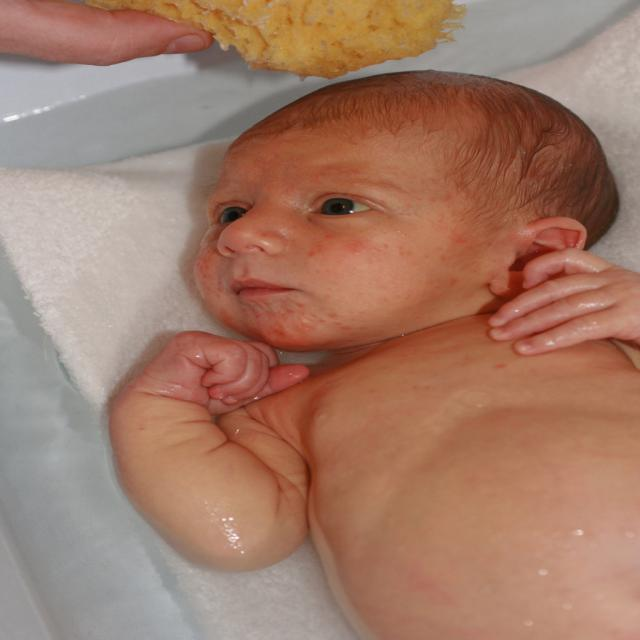closed-mouth: (231, 279, 298, 297)
